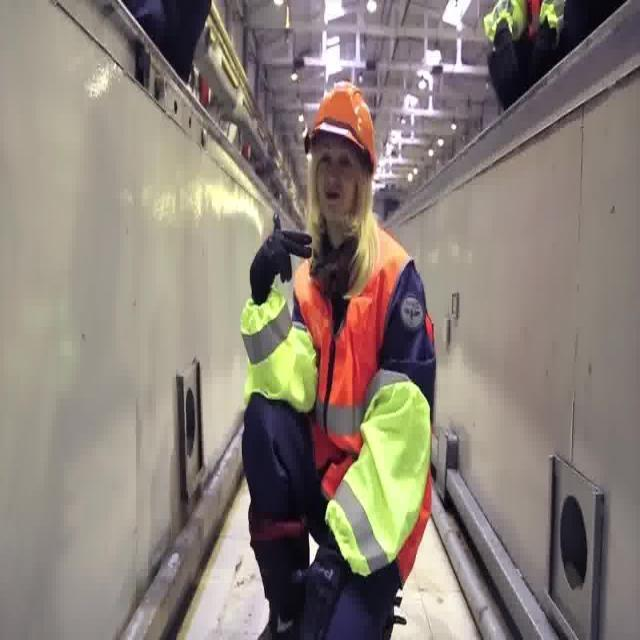red helmet: (298, 74, 383, 161)
